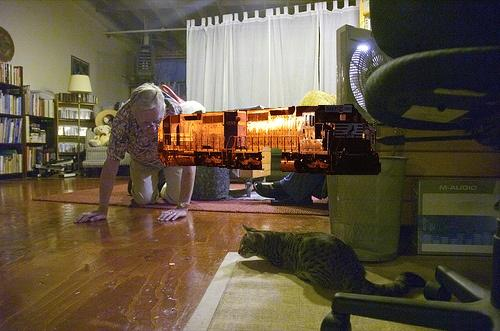tampered: (159, 105, 381, 175)
